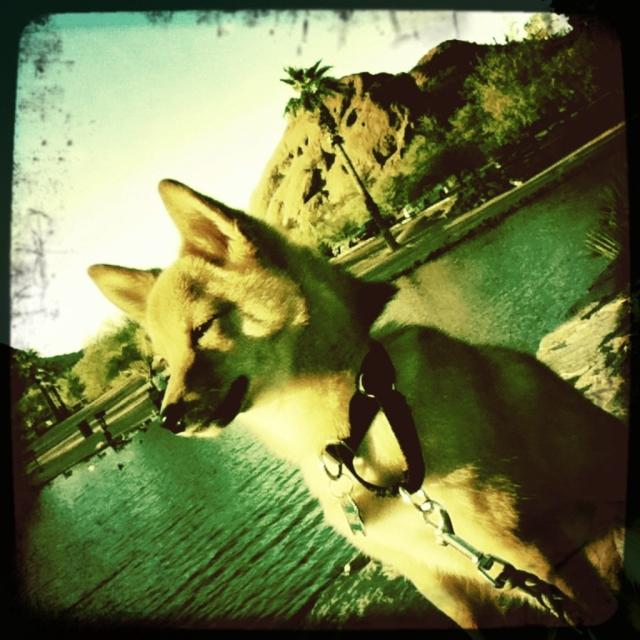Dog: (85, 180, 629, 632)
